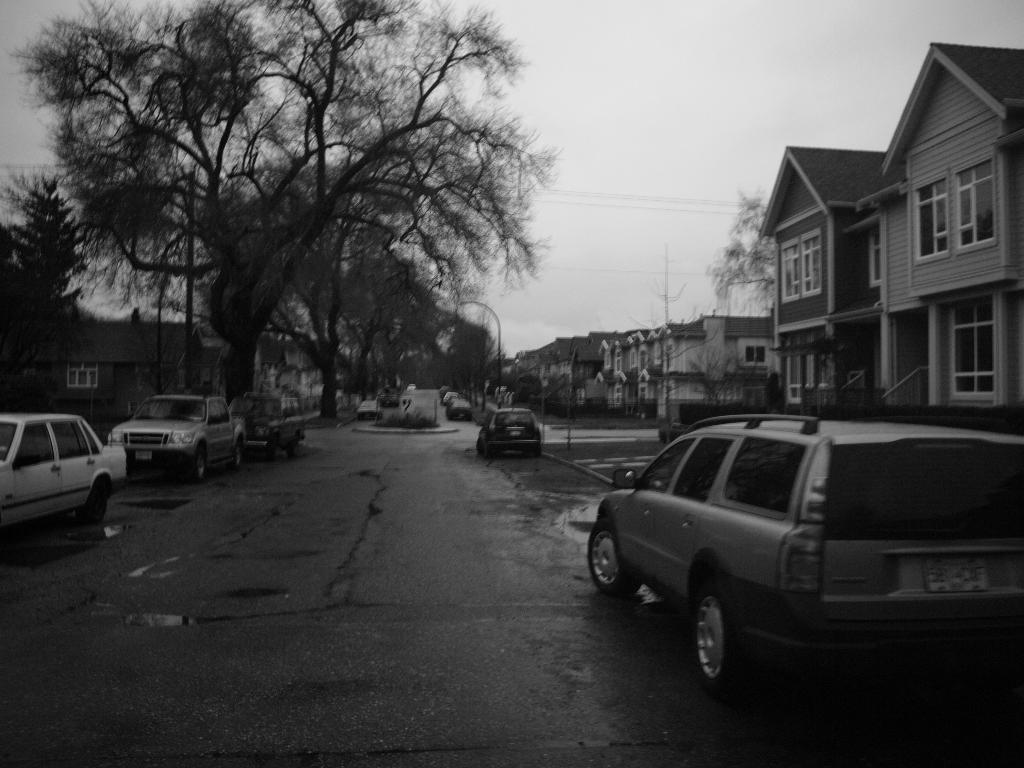Car: (592, 410, 1020, 706), (0, 410, 128, 520), (106, 388, 257, 478), (231, 390, 321, 462), (482, 403, 545, 461), (444, 394, 471, 423), (359, 399, 384, 420)
